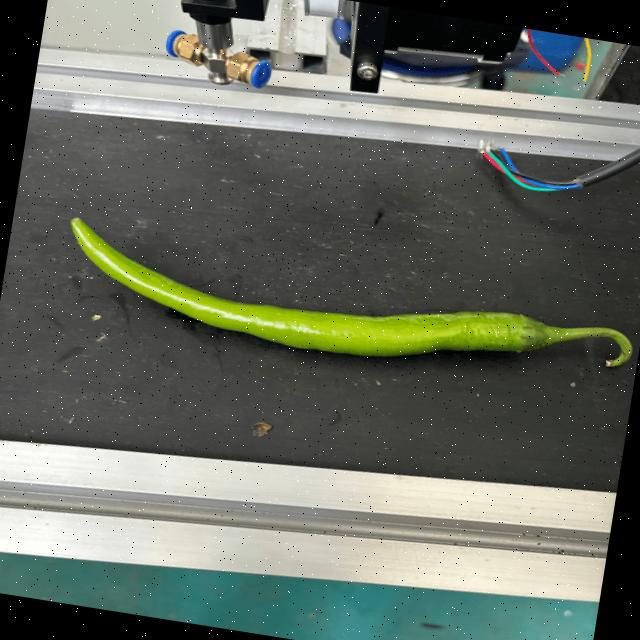chili: (70, 211, 555, 359)
